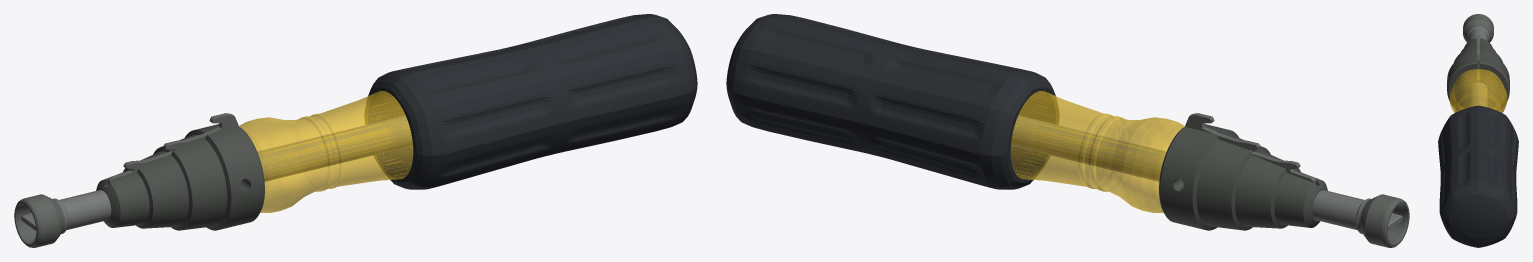
The picture shows the model from 3 angles, left to right: view 1: azimuth 30°, elevation 25°; view 2: azimuth 150°, elevation 25°; view 3: azimuth 270°, elevation 25°; orthographic projection. The views are drawn at different scales.
Parts seen in each view (by area): view 1: Waisted fluted grip shell, Translucent neck and rigid handle core, Stepped reamer sleeve, Driver blade and embedded shank, Protective tip hood, Three lip replaceable cutter; view 2: Waisted fluted grip shell, Translucent neck and rigid handle core, Stepped reamer sleeve, Driver blade and embedded shank, Protective tip hood, Three lip replaceable cutter; view 3: Waisted fluted grip shell, Stepped reamer sleeve, Translucent neck and rigid handle core, Driver blade and embedded shank, Protective tip hood, Three lip replaceable cutter.
Boxes of the visible parts, x1,y1,x2,y2 form: Waisted fluted grip shell: (365,14,697,189); Translucent neck and rigid handle core: (239,91,413,212); Stepped reamer sleeve: (96,124,264,230); Driver blade and embedded shank: (21,116,412,233); Protective tip hood: (14,194,65,247); Three lip replaceable cutter: (107,113,238,184); Waisted fluted grip shell: (726,14,1058,189); Translucent neck and rigid handle core: (1010,91,1184,212); Stepped reamer sleeve: (1159,124,1327,230); Driver blade and embedded shank: (1011,115,1402,233); Protective tip hood: (1358,194,1409,247); Three lip replaceable cutter: (1185,113,1316,184); Waisted fluted grip shell: (1438,105,1518,247); Stepped reamer sleeve: (1447,38,1509,110); Translucent neck and rigid handle core: (1449,69,1507,112); Driver blade and embedded shank: (1467,26,1489,107); Protective tip hood: (1463,14,1493,42); Three lip replaceable cutter: (1477,35,1479,78).
Bounding box in the file's own units: 0.194 × 0.0333 × 0.034.
